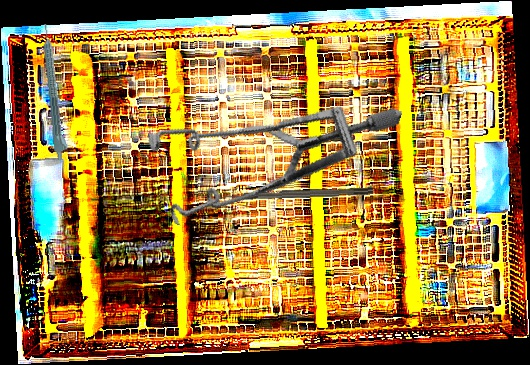Handpiece: (40, 22, 71, 161)
Hook Surgical: (218, 187, 374, 201)
Speculum: (124, 39, 403, 280)
